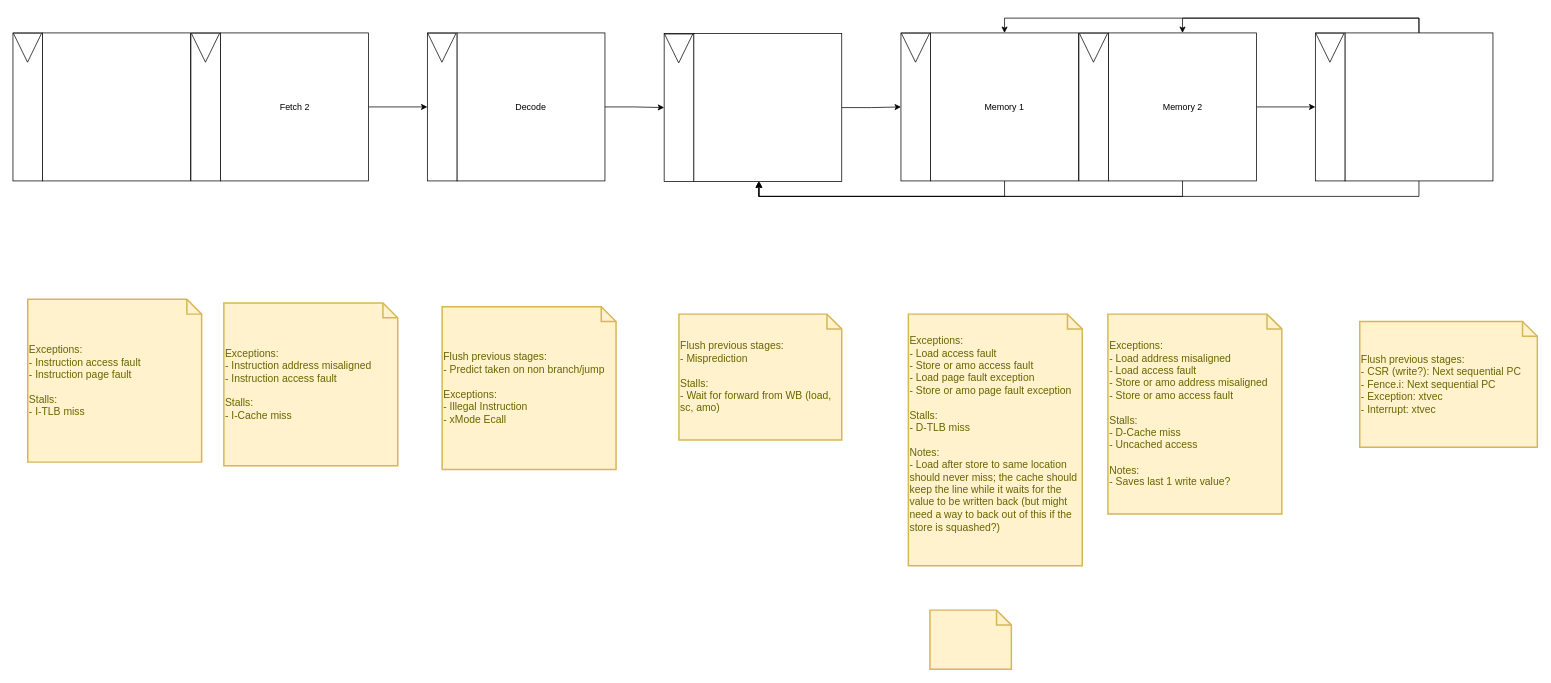
This 1551x683 diagram has some shape labels left out. The centre of each missing label's shape, as x and y in pixels:
Enable for bram regs?: (x=970, y=639)
Execute: (x=767, y=107)
Fetch 1: (x=116, y=106)
Writeback: (x=1418, y=106)
